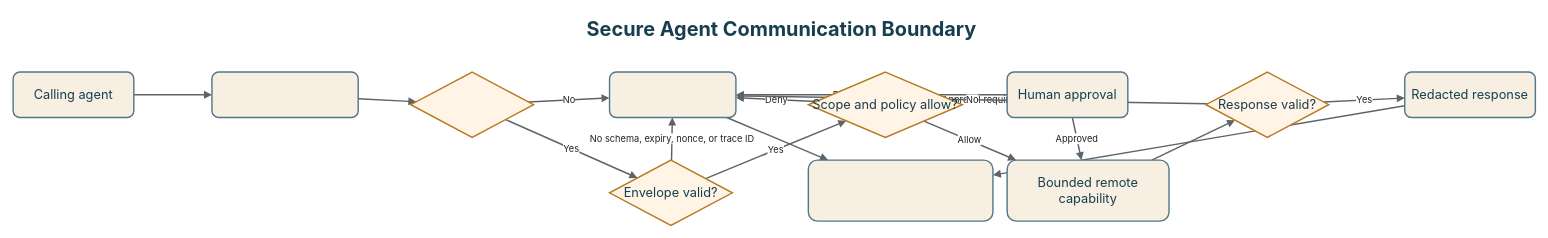
Image size: 1548x238. Some labels were removed from this diagram. The shapes that lost their labels are listed below. From the top down, each one's centre as x and y in pixels, then its label:
point 285,94: TLS or mTLS transport
point 472,104: Identity valid?
point 672,94: Refuse and trace
point 900,190: Audit record and regression eval
